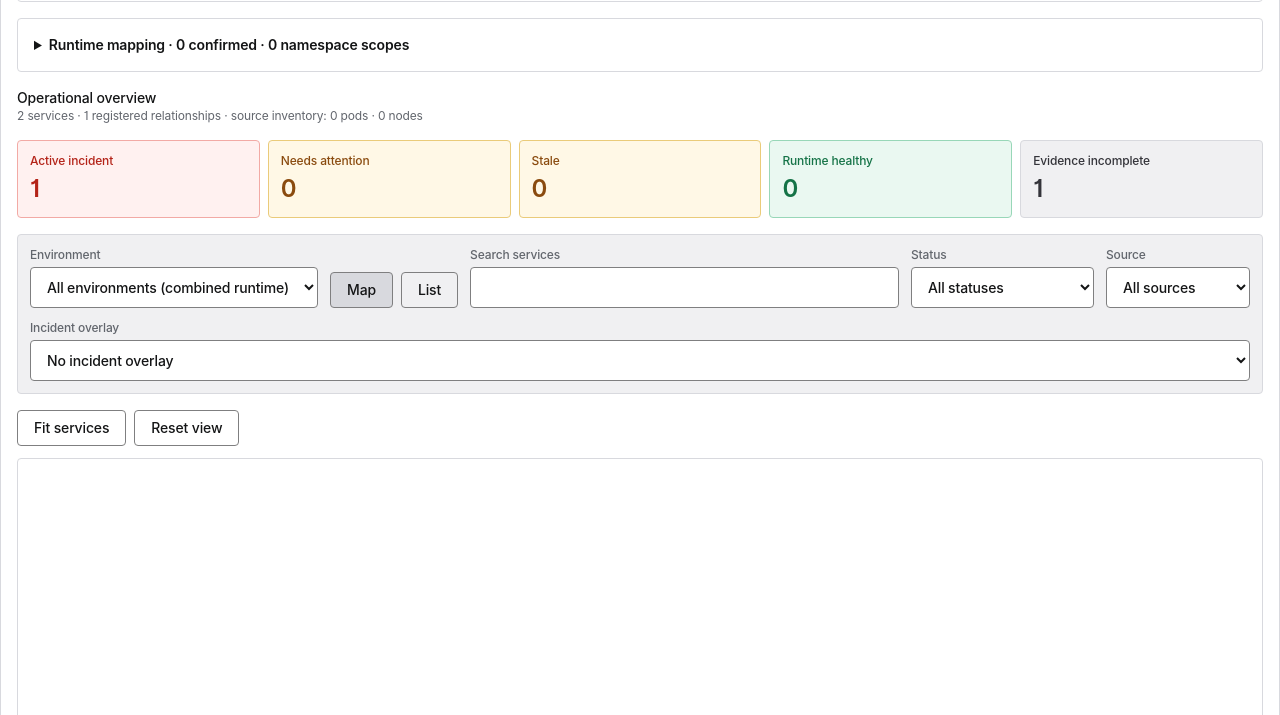
Scenario: TopologyPanel blast-radius overlay › uses confirmed mappings instead of a transport label and lets the overlay be disabled
(page scrolled)
Select "SEV2 · Incident i1" in the dropdown labelled "Incident overlay" at (640, 360), box [30,340,1250,381]
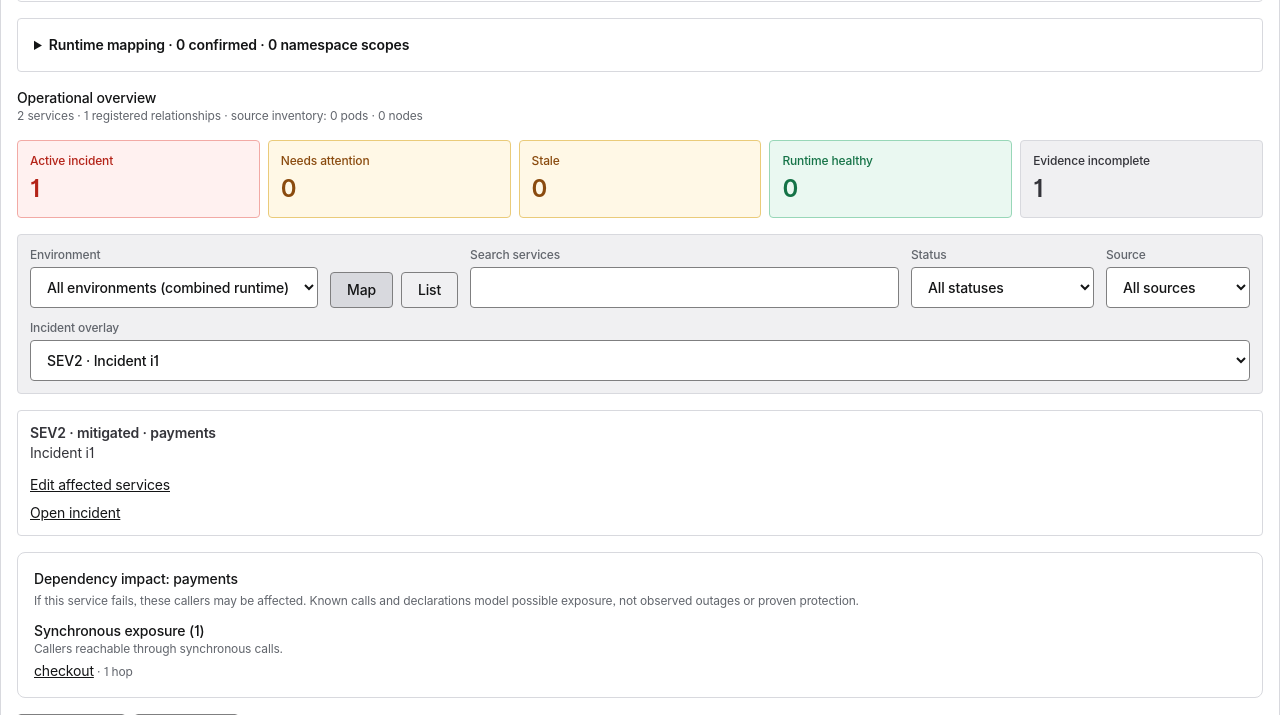
Select "No incident overlay" in the dropdown labelled "Incident overlay" at (640, 360), box [30,340,1250,381]
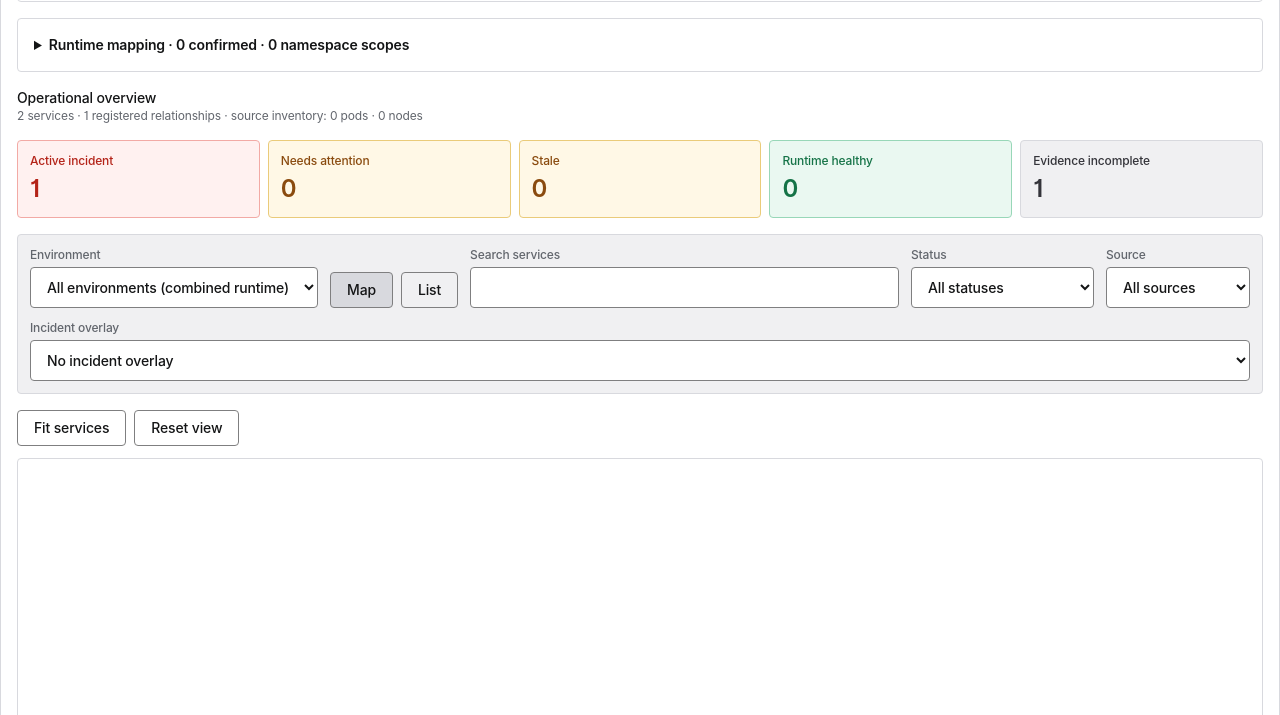
Expected: the heading labelled "Dependency impact" is gone
